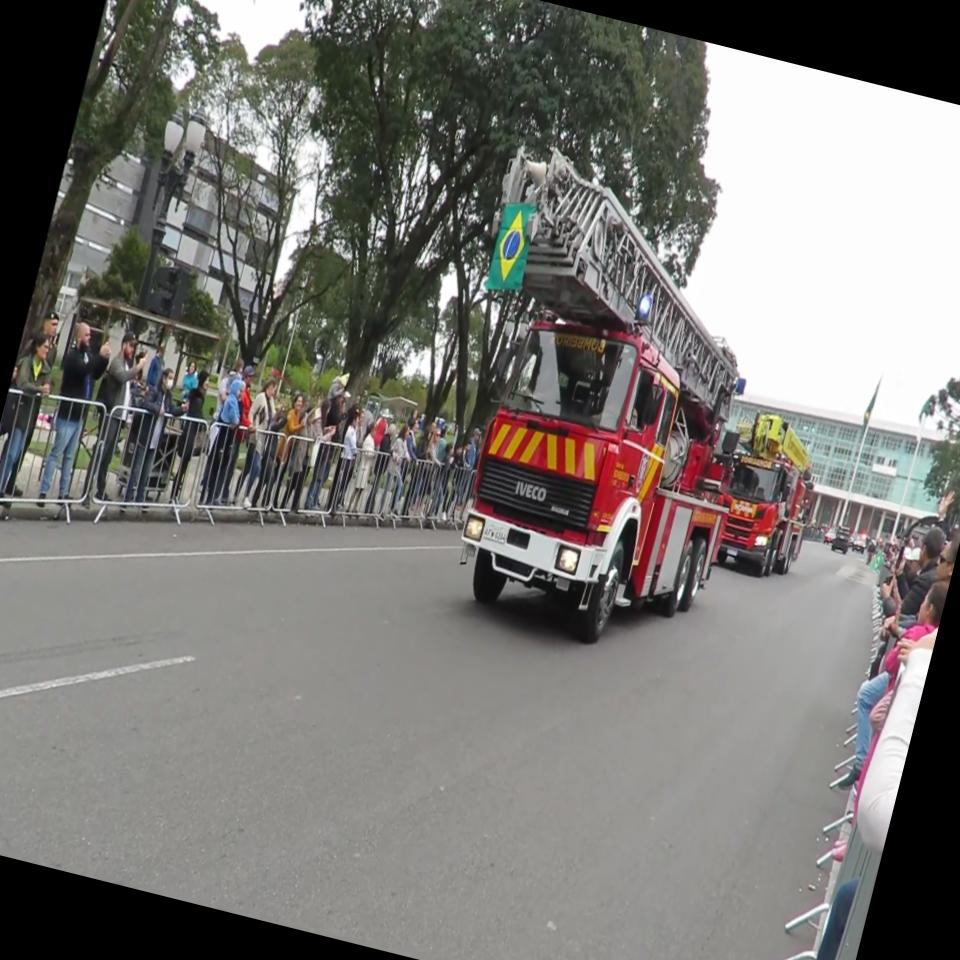viatura: (398, 137, 804, 668), (709, 408, 831, 588)
